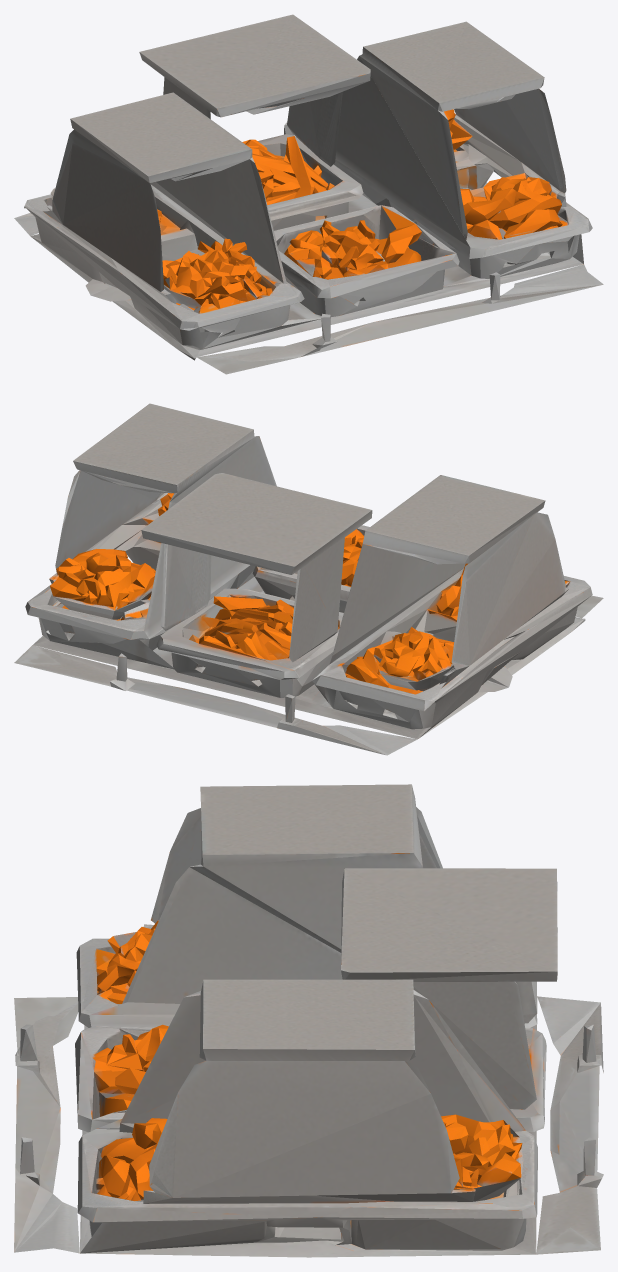
3 views of the same model, one above another, from view 1: azimuth 30°, elevation 25°; view 2: azimuth 150°, elevation 25°; view 3: azimuth 270°, elevation 25° (orthographic). The views are drawn at different scales.
Size of the model in its own units: 1.89 by 0.6749 by 1.7.
1 material, 1 textured.
